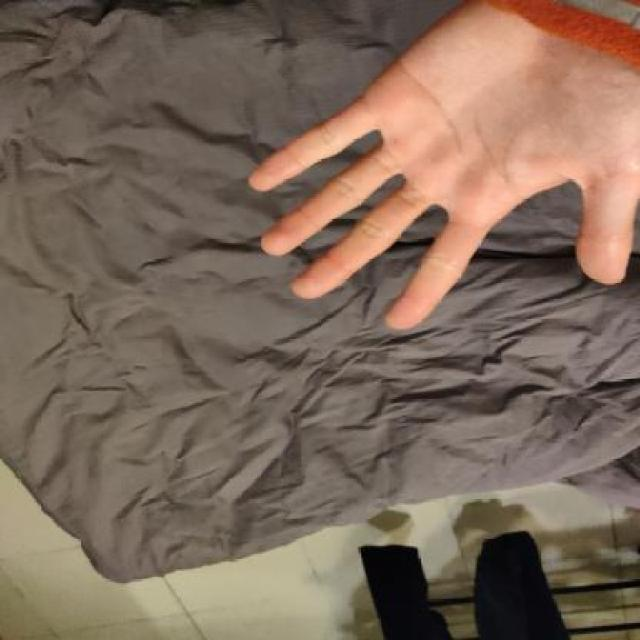bare_hand: (214, 2, 638, 344)
